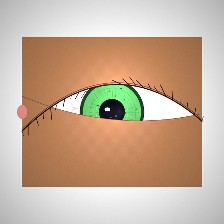pinguecula_lesion: (29, 98, 58, 121)
